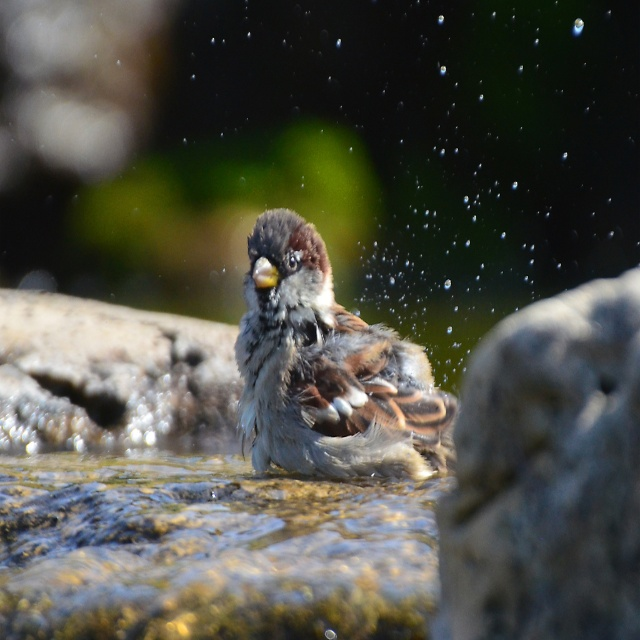Sparrow: (232, 209, 460, 481)
